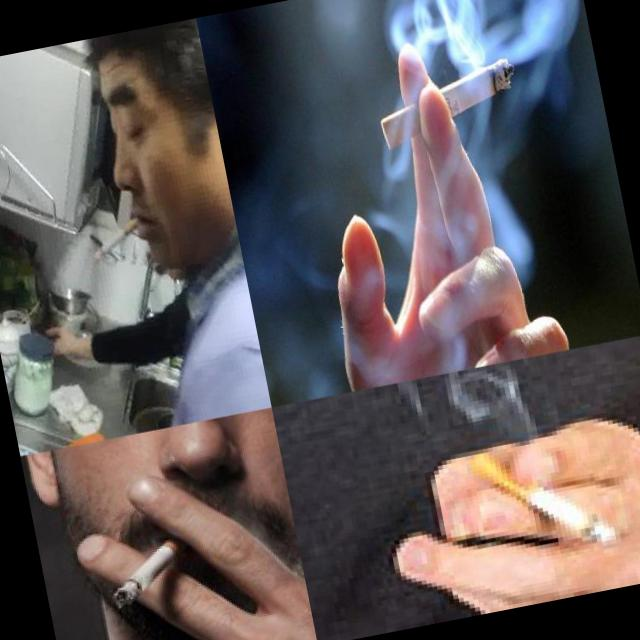smoke: (468, 430, 618, 566), (372, 56, 525, 152), (108, 536, 190, 606), (89, 216, 148, 261)
